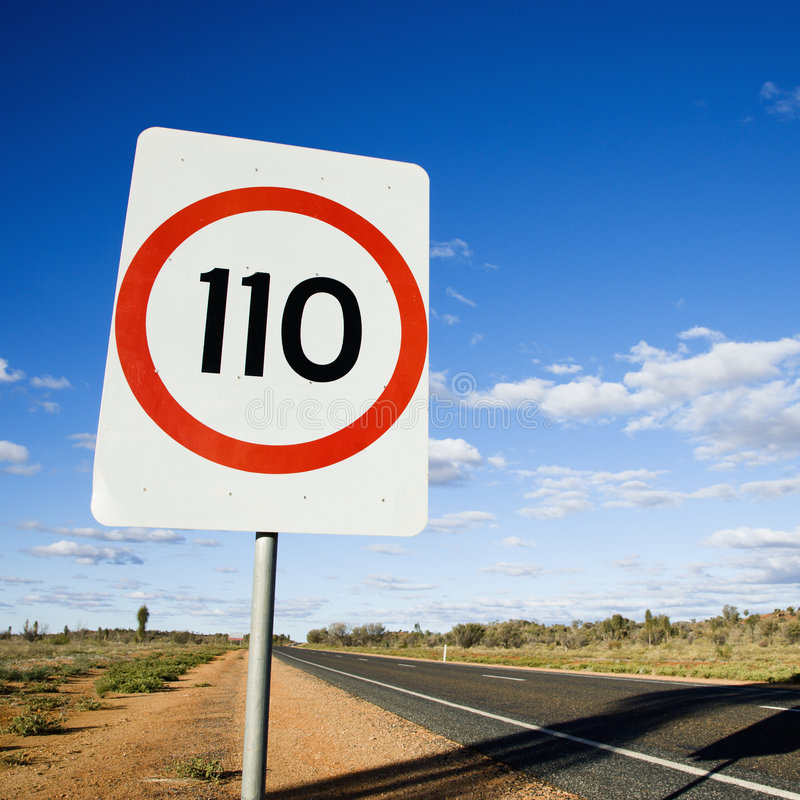Speed_limit_110km: (114, 186, 430, 474)
